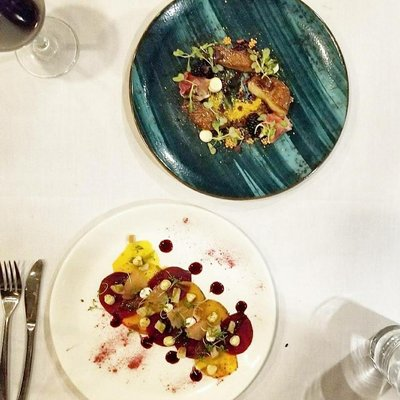sushi: (48, 202, 281, 400), (129, 0, 349, 200)
